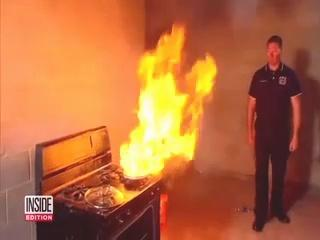Fire: (120, 42, 216, 180)
